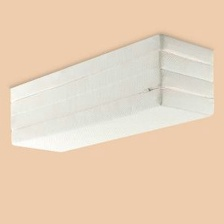foam_box: (4, 30, 218, 156)
